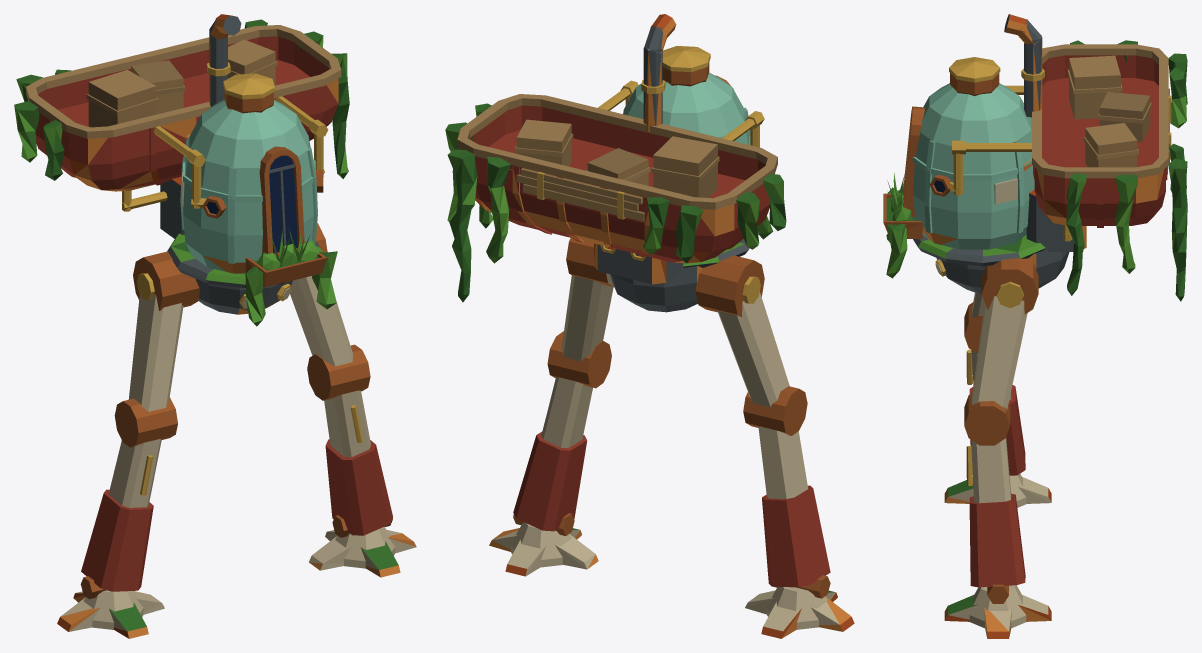
File: cargo_walker.glb
3 renders of one model, left to right at view 1: azimuth 30°, elevation 25°; view 2: azimuth 150°, elevation 25°; view 3: azimuth 270°, elevation 25°, orthographic. The views are drawn at different scales.
Parts seen in each view (by area): view 1: body, shin-r, shin-l, thigh-r, cargo-load, thigh-l; view 2: body, shin-r, shin-l, thigh-r, cargo-load, thigh-l; view 3: body, shin-l, cargo-load, thigh-l, shin-r.
Boxes of the visible parts, bbox=[...] form: body: bbox=[14, 14, 349, 326]; shin-r: bbox=[57, 397, 177, 638]; shin-l: bbox=[307, 344, 416, 577]; thigh-r: bbox=[128, 251, 199, 411]; cargo-load: bbox=[86, 39, 277, 127]; thigh-l: bbox=[290, 223, 353, 366]; body: bbox=[445, 14, 786, 312]; shin-r: bbox=[743, 386, 854, 638]; shin-l: bbox=[489, 331, 611, 576]; thigh-r: bbox=[695, 255, 789, 407]; cargo-load: bbox=[515, 119, 719, 197]; thigh-l: bbox=[561, 238, 613, 361]; body: bbox=[883, 14, 1187, 301]; shin-l: bbox=[944, 393, 1051, 638]; cargo-load: bbox=[1067, 55, 1151, 167]; thigh-l: bbox=[971, 258, 1038, 409]; shin-r: bbox=[944, 302, 1051, 507].
Bounding box in the file's own units: 7.06 × 10.96 × 5.57.
